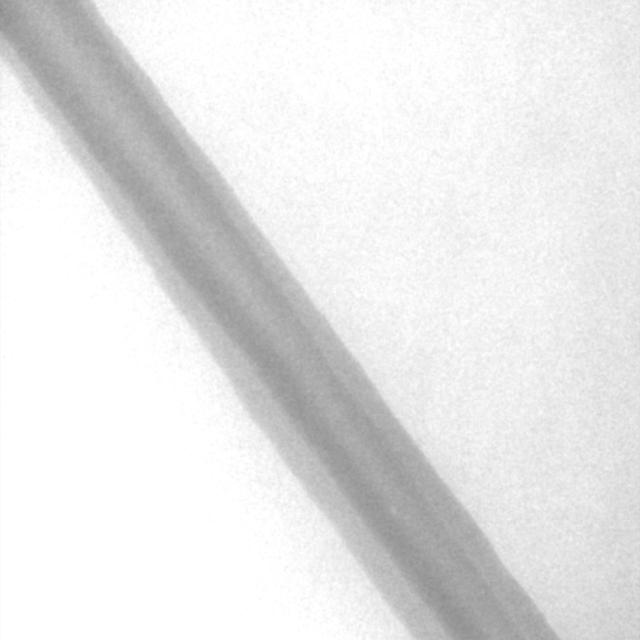air-hole: (389, 504, 399, 518)
